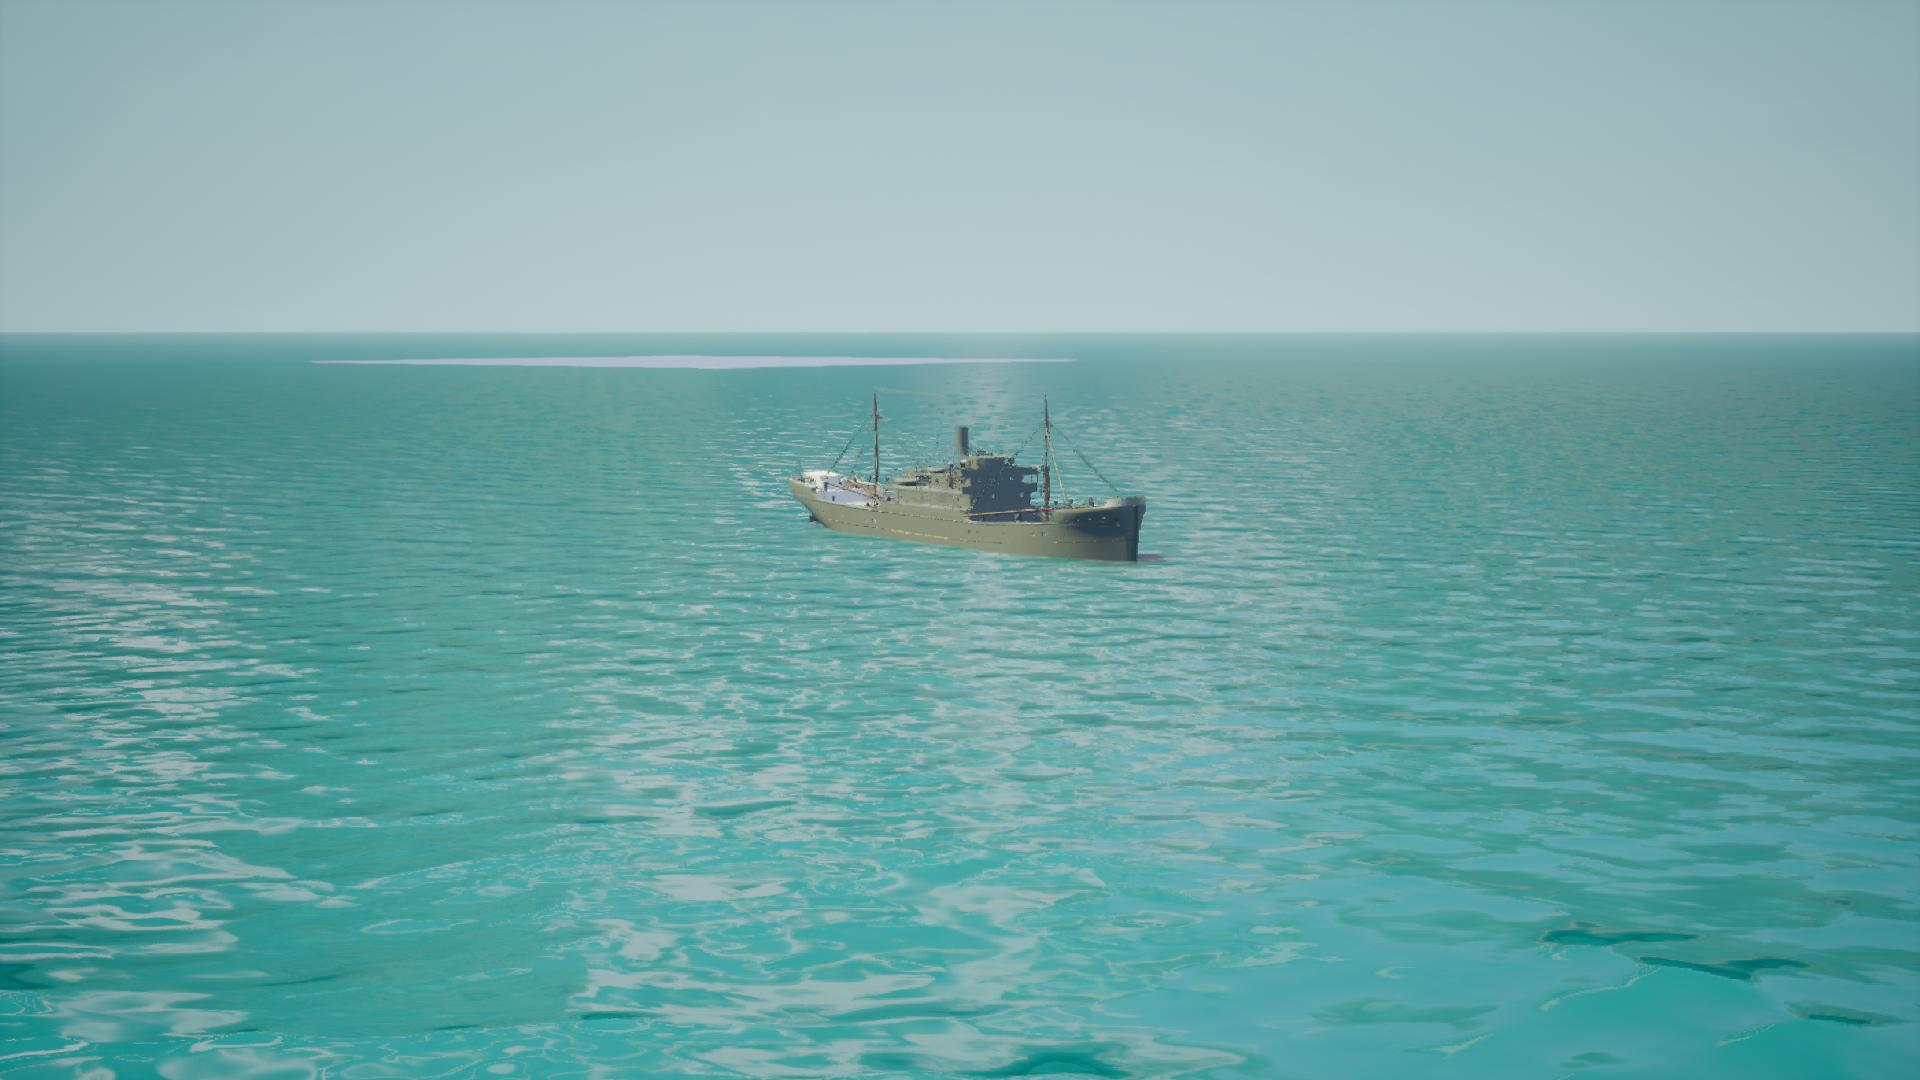Fishing Boat: (786, 388, 1147, 568)
